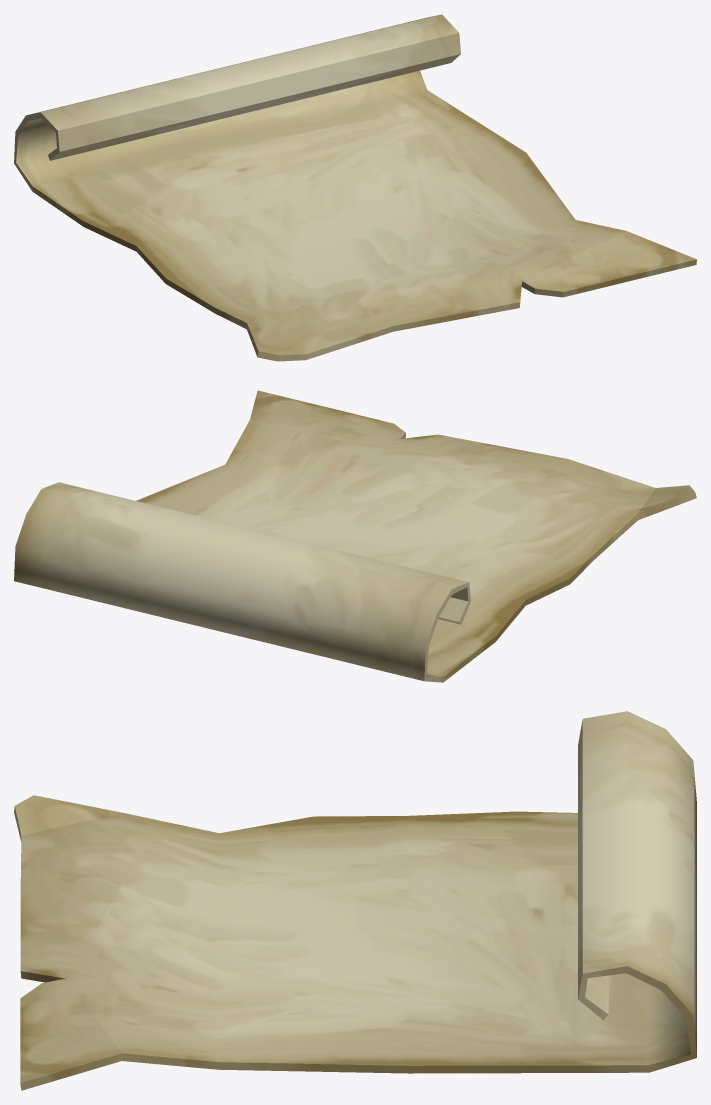
Rendered from e_asset_paper.fbx.
3 renders of one model, top to bottom at view 1: azimuth 30°, elevation 25°; view 2: azimuth 150°, elevation 25°; view 3: azimuth 270°, elevation 25°, orthographic. The views are drawn at different scales.
Visible parts, largest first — view 1: pPlane39; view 2: pPlane39; view 3: pPlane39.
Part boxes in pixels (x1=…): pPlane39: x1=14, y1=14, x2=696, y2=361; pPlane39: x1=14, y1=390, x2=696, y2=682; pPlane39: x1=14, y1=711, x2=696, y2=1090.
Bounding box in the file's own units: 0.3764 × 0.0753 × 0.3935.
